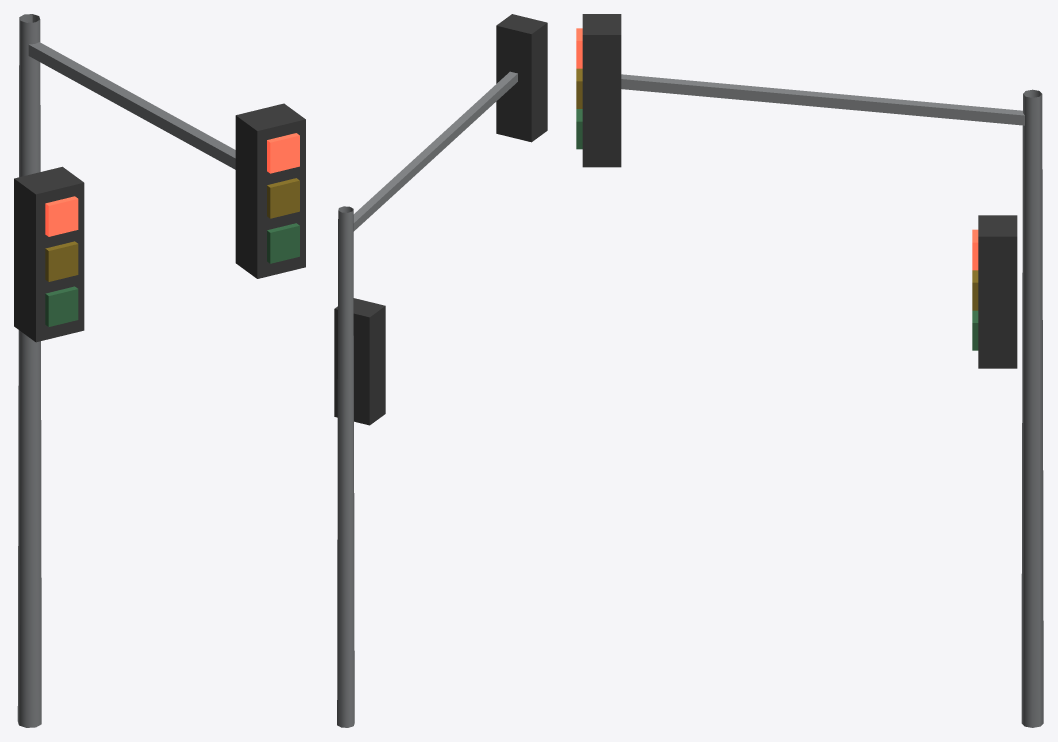
File: traffic-light.glb
The picture shows the model from 3 angles, left to right: view 1: azimuth 30°, elevation 25°; view 2: azimuth 150°, elevation 25°; view 3: azimuth 270°, elevation 25°; orthographic projection. The views are drawn at different scales.
Visible parts, largest first — view 1: traffic-light, traffic-light-housing, traffic-light-red, traffic-light-amber, traffic-light-green; view 2: traffic-light, traffic-light-housing; view 3: traffic-light, traffic-light-housing.
Part boxes in pixels (x1,y1,x2,y2): traffic-light: (17,14,235,727); traffic-light-housing: (14,103,305,342); traffic-light-red: (45,133,299,236); traffic-light-amber: (45,178,299,281); traffic-light-green: (45,223,299,326); traffic-light: (337,71,517,727); traffic-light-housing: (334,14,547,425); traffic-light: (621,74,1043,727); traffic-light-housing: (582,14,1017,368).
Bounding box in the file's own units: 0.3599 × 5.55 × 3.37.
